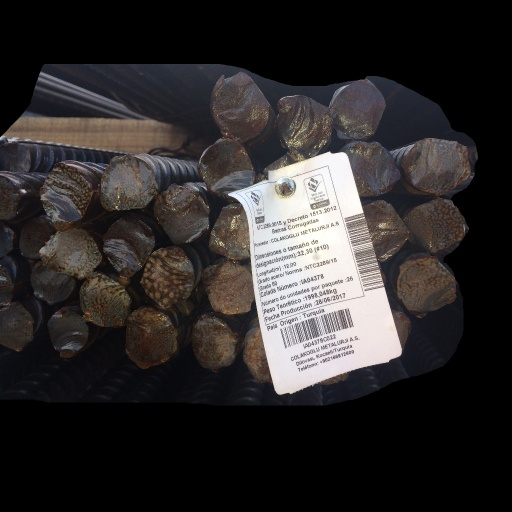dipstick: (211, 72, 269, 139), (277, 95, 331, 161), (410, 138, 470, 194), (199, 140, 255, 197), (141, 247, 193, 308), (332, 82, 386, 140), (408, 198, 466, 252), (125, 309, 177, 368), (103, 217, 153, 278), (100, 156, 156, 210), (156, 186, 208, 244), (343, 142, 400, 194), (41, 162, 91, 220), (362, 201, 409, 262), (400, 260, 456, 308), (202, 263, 253, 315), (80, 275, 128, 327), (46, 230, 102, 274), (211, 203, 250, 261), (192, 319, 233, 368), (30, 264, 74, 301), (243, 328, 272, 383), (0, 304, 33, 351), (48, 316, 87, 353), (18, 220, 52, 258), (0, 178, 18, 220)
